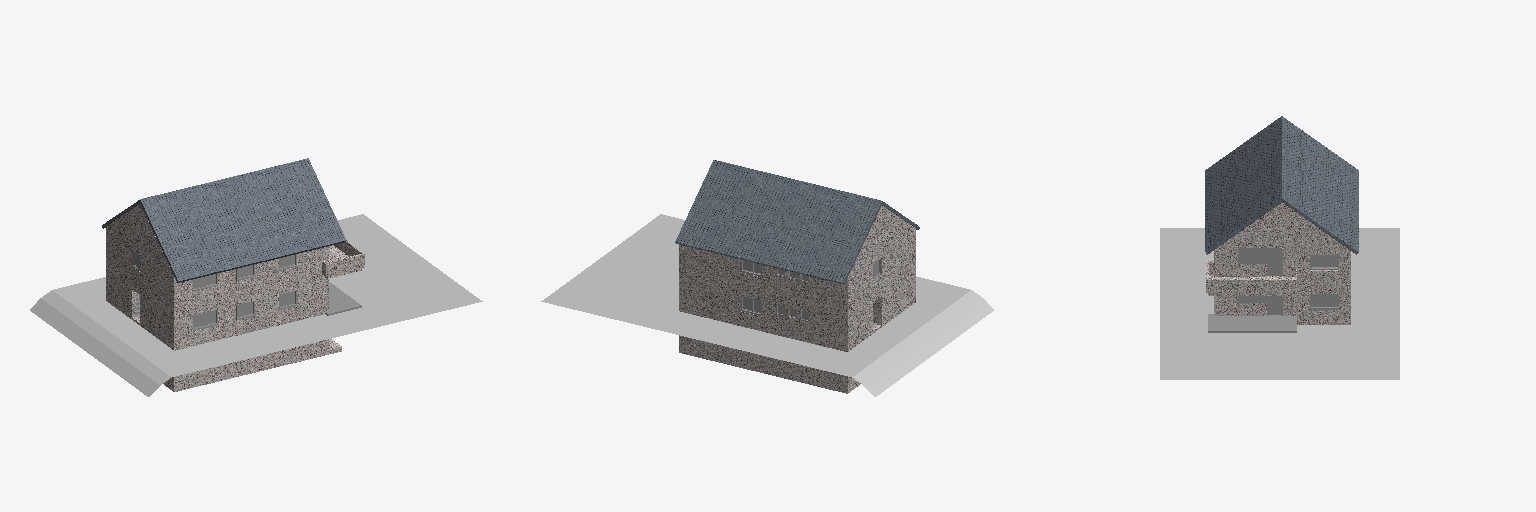
3 views of the same model, side by side, from view 1: azimuth 30°, elevation 25°; view 2: azimuth 150°, elevation 25°; view 3: azimuth 270°, elevation 25° (orthographic).
Visible parts, largest first — view 1: Plane.005_Grass, Plane.011_Dach, Plane, Plane.007_Plane.006, Stairs_Stairs.001, Floor; view 2: Plane.005_Grass, Plane, Plane.011_Dach, Plane.007_Plane.006, Stairs_Stairs.001; view 3: Plane.005_Grass, Plane.011_Dach, Plane, Plane.007_Plane.006, Floor.
Boxes of the visible parts, x1=… form: Plane.005_Grass: x1=30, y1=214, x2=482, y2=396; Plane.011_Dach: x1=102, y1=158, x2=346, y2=282; Plane: x1=106, y1=227, x2=364, y2=387; Plane.007_Plane.006: x1=106, y1=204, x2=173, y2=275; Stairs_Stairs.001: x1=163, y1=339, x2=341, y2=391; Floor: x1=136, y1=282, x2=361, y2=318; Plane.005_Grass: x1=541, y1=214, x2=993, y2=396; Plane: x1=679, y1=229, x2=915, y2=389; Plane.011_Dach: x1=675, y1=160, x2=919, y2=284; Plane.007_Plane.006: x1=848, y1=206, x2=915, y2=277; Stairs_Stairs.001: x1=679, y1=349, x2=860, y2=393; Plane.005_Grass: x1=1160, y1=228, x2=1399, y2=379; Plane.011_Dach: x1=1205, y1=116, x2=1358, y2=254; Plane: x1=1206, y1=244, x2=1350, y2=324; Plane.007_Plane.006: x1=1224, y1=203, x2=1349, y2=250; Floor: x1=1208, y1=314, x2=1296, y2=332.
Bounding box in the file's own units: 24.18 × 11.64 × 15.01.
Materials: 13 (3 with a texture image).